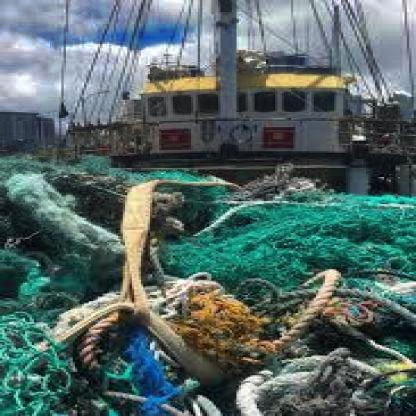net: (11, 174, 416, 416)
